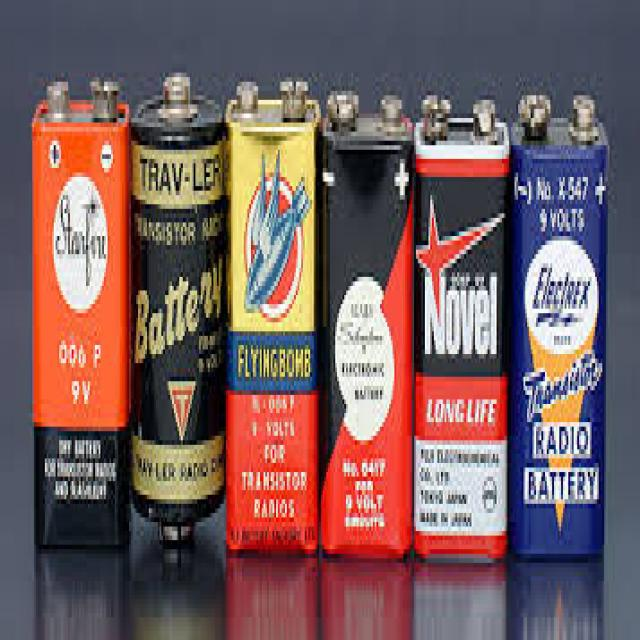non-organic waste: (32, 74, 133, 560), (316, 88, 415, 570), (512, 98, 611, 566), (132, 68, 227, 545), (416, 86, 510, 566), (226, 79, 319, 553)
